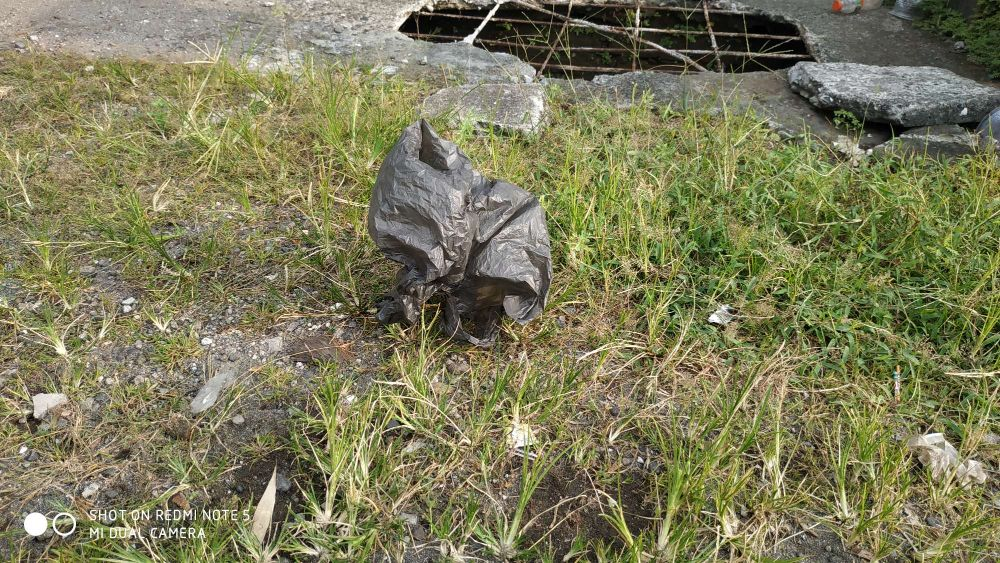plastik: (374, 114, 550, 350)
